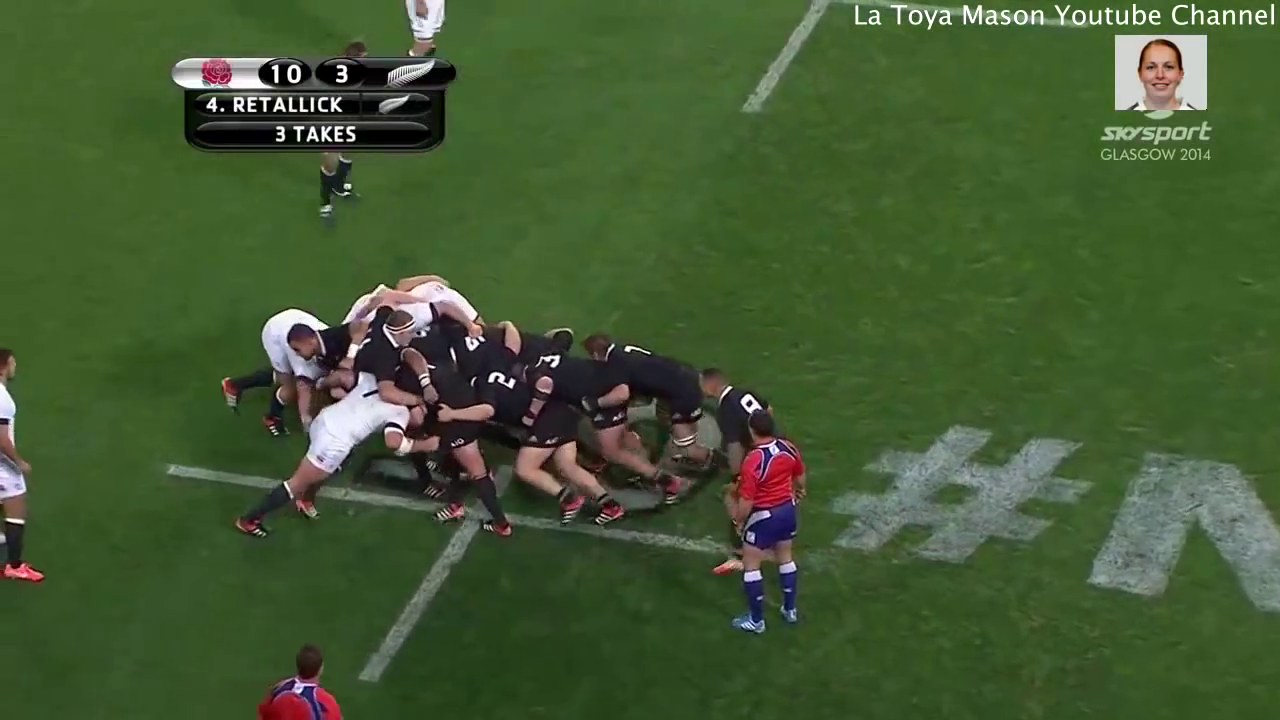player: (224, 365, 426, 539), (452, 360, 631, 541), (507, 347, 685, 510), (580, 324, 757, 482), (384, 343, 521, 545), (693, 360, 786, 587), (722, 408, 811, 645), (234, 284, 338, 443), (1, 329, 57, 592), (333, 303, 422, 419), (253, 632, 356, 720)
